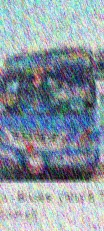bus: (0, 42, 104, 171)
